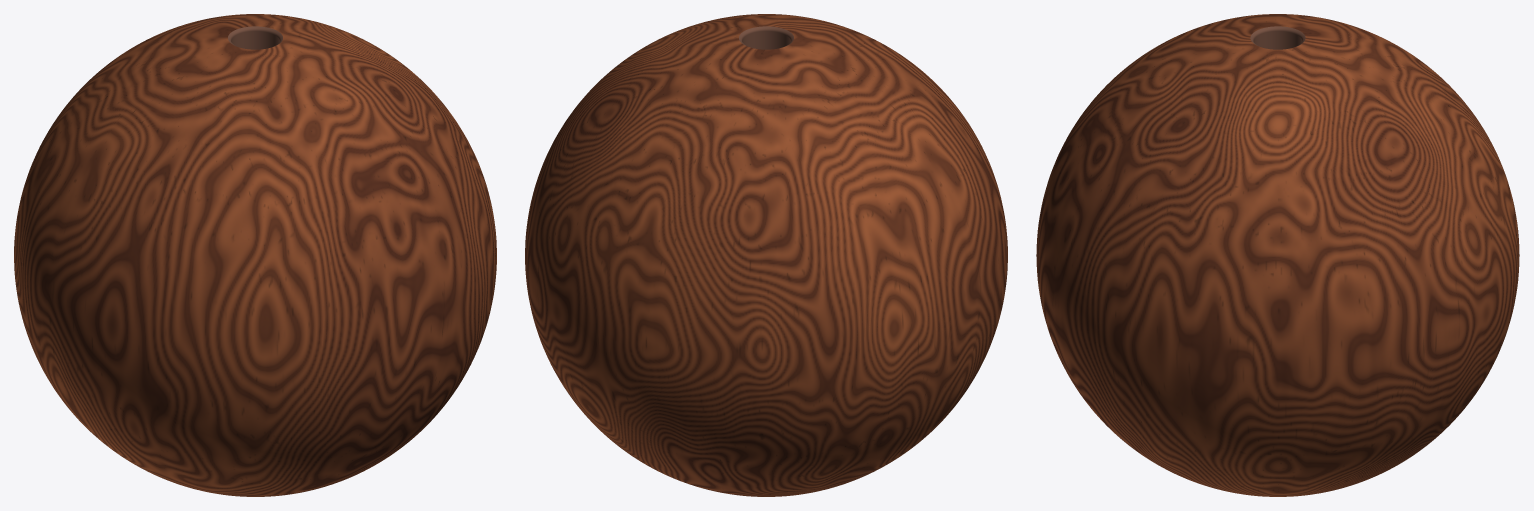
File: wood-daye-huanghuali-10mm.glb
3 renders of one model, left to right at view 1: azimuth 30°, elevation 25°; view 2: azimuth 150°, elevation 25°; view 3: azimuth 270°, elevation 25°, orthographic.
Visible parts, largest first — view 1: daye-huanghuali; view 2: daye-huanghuali; view 3: daye-huanghuali.
Boxes of the visible parts, box(x1,y1,x2,y2) form: daye-huanghuali: box(14, 14, 496, 496); daye-huanghuali: box(525, 14, 1007, 496); daye-huanghuali: box(1036, 14, 1519, 496).
Bounding box in the file's own units: 0.01 × 0.00993 × 0.01.
Materials: 2 (1 with a texture image).
